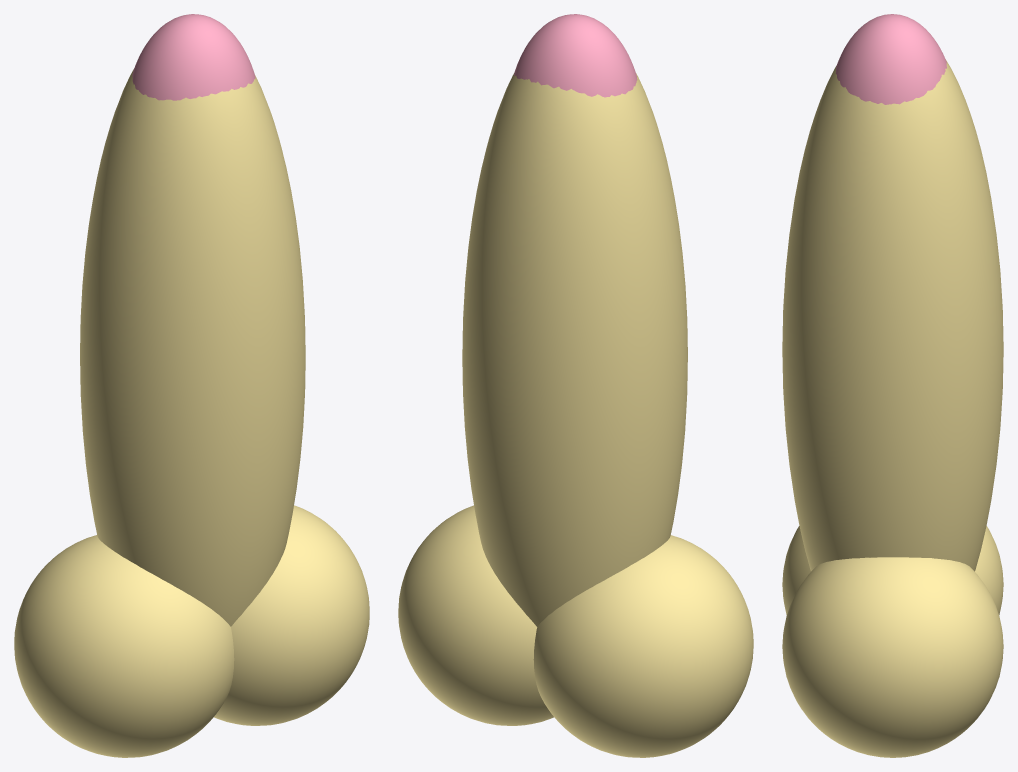
The model's file is amogu.glb.
3 views of the same model, side by side, from view 1: azimuth 30°, elevation 25°; view 2: azimuth 150°, elevation 25°; view 3: azimuth 270°, elevation 25° (orthographic). The views are drawn at different scales.
Visible parts, largest first — view 1: mesh_id45, mesh_id27, mesh_id39, mesh_id53; view 2: mesh_id45, mesh_id27, mesh_id39, mesh_id53; view 3: mesh_id45, mesh_id39, mesh_id53, mesh_id27.
Part boxes in pixels (x1,y1,x2,y2): mesh_id45: [80, 69, 305, 626]; mesh_id27: [14, 535, 234, 757]; mesh_id39: [214, 505, 369, 725]; mesh_id53: [132, 14, 255, 100]; mesh_id45: [462, 73, 687, 626]; mesh_id27: [533, 535, 753, 757]; mesh_id39: [398, 505, 553, 725]; mesh_id53: [514, 14, 637, 97]; mesh_id45: [782, 59, 1003, 571]; mesh_id39: [782, 557, 1003, 757]; mesh_id53: [835, 14, 946, 104]; mesh_id27: [782, 526, 1003, 614].
Size of the model in its own units: 0.1983 by 0.4156 by 0.1192.
Materials: 3 (3 with a texture image).
